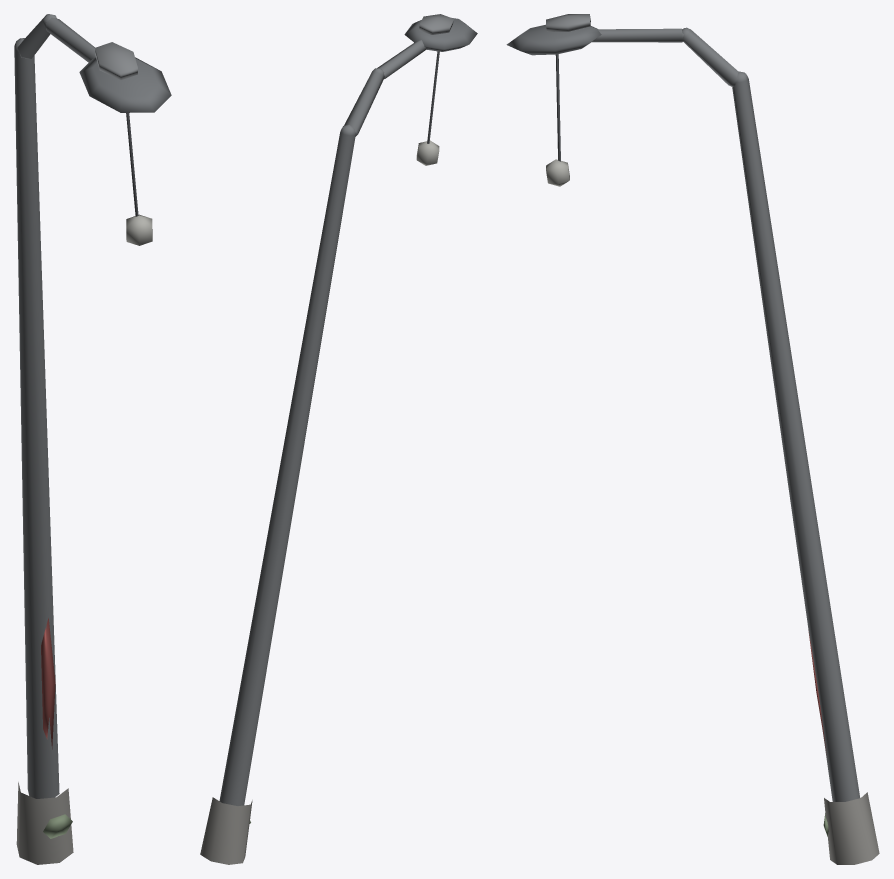
The model's file is poste_luz_quebrado.glb.
The picture shows the model from 3 angles, left to right: view 1: azimuth 30°, elevation 25°; view 2: azimuth 150°, elevation 25°; view 3: azimuth 270°, elevation 25°; orthographic projection. The views are drawn at different scales.
Parts seen in each view (by area): view 1: poste, lamp_head; view 2: poste, lamp_head; view 3: poste, lamp_head.
Part boxes in pixels (<box>): poste: <box>14,14,95,864</box>; lamp_head: <box>79,42,171,245</box>; poste: <box>200,40,427,864</box>; lamp_head: <box>404,14,477,165</box>; poste: <box>592,27,879,864</box>; lamp_head: <box>506,14,601,186</box>.
Size of the model in its own units: 1.05 by 6.03 by 2.54.
